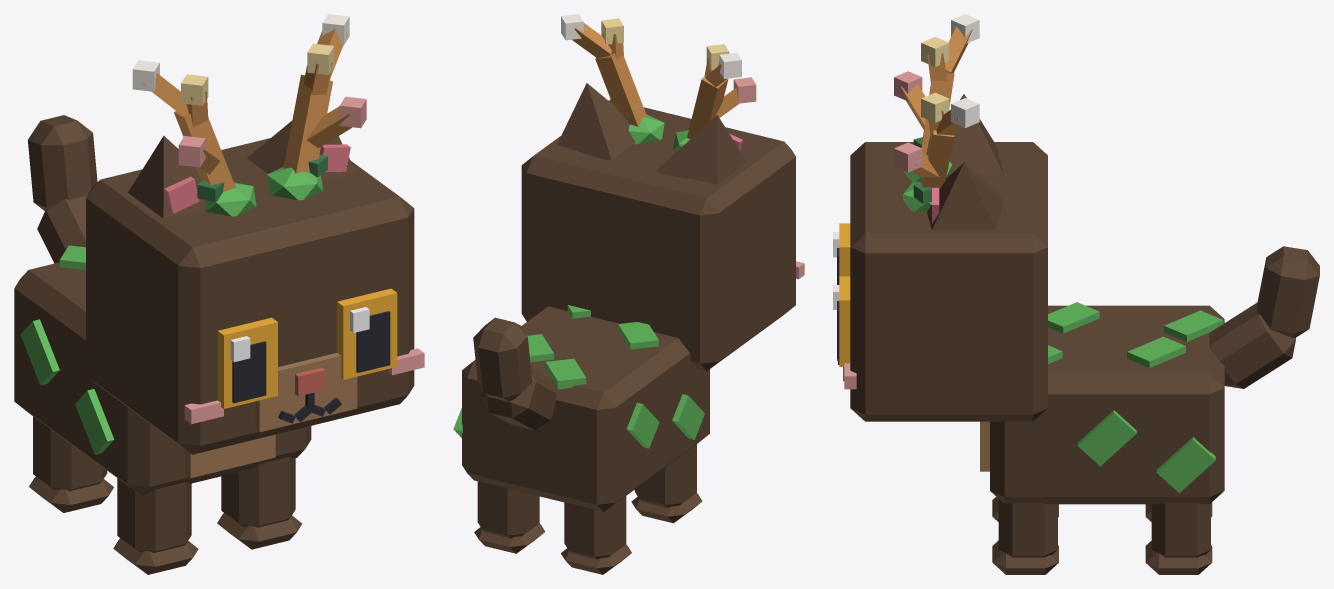
File: CatCafe_Cat_OldOak.glb
3 views of the same model, side by side, from view 1: azimuth 30°, elevation 25°; view 2: azimuth 150°, elevation 25°; view 3: azimuth 270°, elevation 25° (orthographic). The views are drawn at different scales.
Visible parts, largest first — view 1: CatCafe_Cat_OldOak_Head, CatCafe_Cat_OldOak_Body, CatCafe_Cat_OldOak_Prop, CatCafe_Cat_OldOak_Tail, CatCafe_Cat_OldOak_LegF2, CatCafe_Cat_OldOak_LegF1, CatCafe_Cat_OldOak_Eye2, CatCafe_Cat_OldOak_Eye1, CatCafe_Cat_OldOak_LegB2, CatCafe_Cat_OldOak_EarR, CatCafe_Cat_OldOak_EarL; view 2: CatCafe_Cat_OldOak_Head, CatCafe_Cat_OldOak_Body, CatCafe_Cat_OldOak_Prop, CatCafe_Cat_OldOak_Tail, CatCafe_Cat_OldOak_LegB2, CatCafe_Cat_OldOak_LegB1, CatCafe_Cat_OldOak_EarL, CatCafe_Cat_OldOak_EarR, CatCafe_Cat_OldOak_LegF2; view 3: CatCafe_Cat_OldOak_Head, CatCafe_Cat_OldOak_Body, CatCafe_Cat_OldOak_Tail, CatCafe_Cat_OldOak_Prop, CatCafe_Cat_OldOak_LegF1, CatCafe_Cat_OldOak_LegB1, CatCafe_Cat_OldOak_EarL, CatCafe_Cat_OldOak_EarR, CatCafe_Cat_OldOak_Eye1, CatCafe_Cat_OldOak_Eye2.
Part boxes in pixels (x1,y1,x2,y2): CatCafe_Cat_OldOak_Head: (86, 138, 424, 454); CatCafe_Cat_OldOak_Body: (14, 245, 311, 495); CatCafe_Cat_OldOak_Prop: (132, 14, 366, 216); CatCafe_Cat_OldOak_Tail: (28, 115, 97, 263); CatCafe_Cat_OldOak_LegF2: (113, 478, 198, 574); CatCafe_Cat_OldOak_LegF1: (217, 457, 302, 549); CatCafe_Cat_OldOak_Eye2: (217, 317, 277, 408); CatCafe_Cat_OldOak_Eye1: (337, 288, 397, 379); CatCafe_Cat_OldOak_LegB2: (29, 416, 113, 512); CatCafe_Cat_OldOak_EarR: (128, 136, 204, 218); CatCafe_Cat_OldOak_EarL: (247, 113, 355, 182); CatCafe_Cat_OldOak_Head: (521, 99, 804, 371); CatCafe_Cat_OldOak_Body: (453, 305, 709, 511); CatCafe_Cat_OldOak_Prop: (561, 14, 756, 151); CatCafe_Cat_OldOak_Tail: (473, 317, 557, 430); CatCafe_Cat_OldOak_LegB2: (561, 496, 631, 574); CatCafe_Cat_OldOak_LegB1: (474, 481, 545, 553); CatCafe_Cat_OldOak_EarL: (557, 83, 635, 160); CatCafe_Cat_OldOak_EarR: (656, 115, 746, 183); CatCafe_Cat_OldOak_LegF2: (631, 444, 702, 523); CatCafe_Cat_OldOak_Head: (837, 142, 1047, 421); CatCafe_Cat_OldOak_Body: (980, 302, 1224, 504); CatCafe_Cat_OldOak_Tail: (1209, 246, 1319, 388); CatCafe_Cat_OldOak_Prop: (894, 14, 979, 211); CatCafe_Cat_OldOak_LegF1: (992, 499, 1058, 574); CatCafe_Cat_OldOak_LegB1: (1145, 503, 1212, 574); CatCafe_Cat_OldOak_EarL: (927, 163, 1003, 230); CatCafe_Cat_OldOak_EarR: (949, 94, 1003, 174); CatCafe_Cat_OldOak_Eye1: (833, 276, 850, 366); CatCafe_Cat_OldOak_Eye2: (833, 223, 850, 284).
Bounding box in the file's own units: 1 × 2.15 × 1.97.
Materials: 1 (1 with a texture image).
